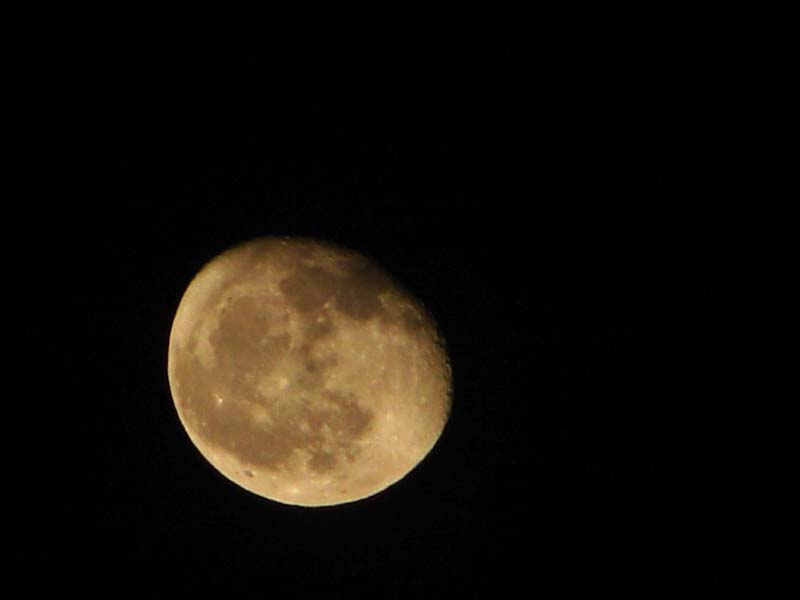crater: (260, 360, 311, 408), (377, 413, 417, 459), (205, 385, 230, 412), (239, 455, 263, 483), (316, 248, 342, 269), (222, 290, 239, 306)
